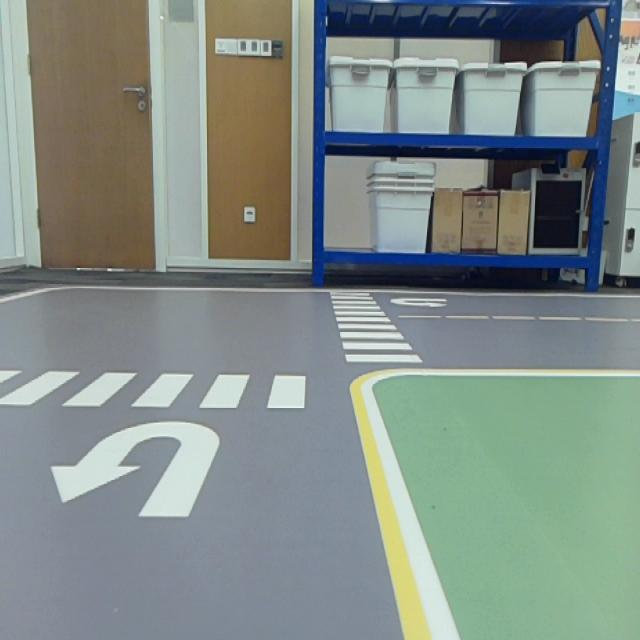right_lane: (349, 386, 436, 640)
